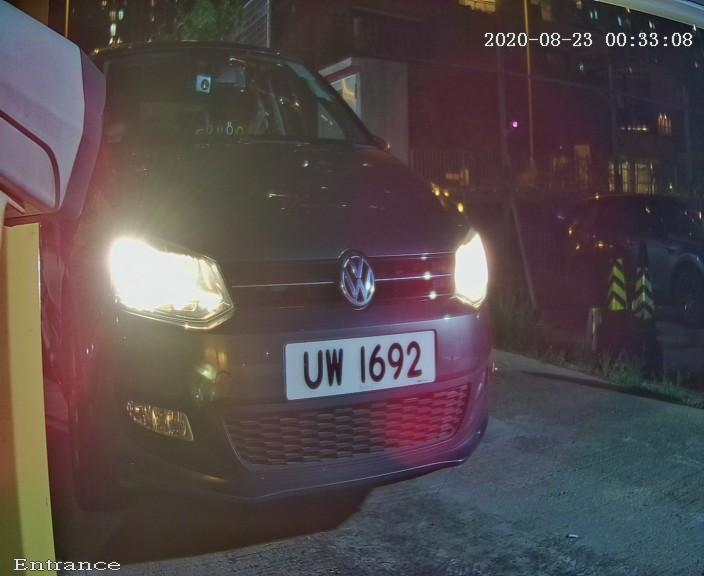Car: (1, 19, 566, 543)
License Plate: (263, 308, 453, 418)
